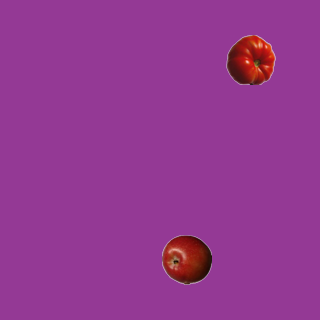Apple Braeburn: (161, 234, 211, 284)
Tomato 3: (225, 34, 275, 84)
